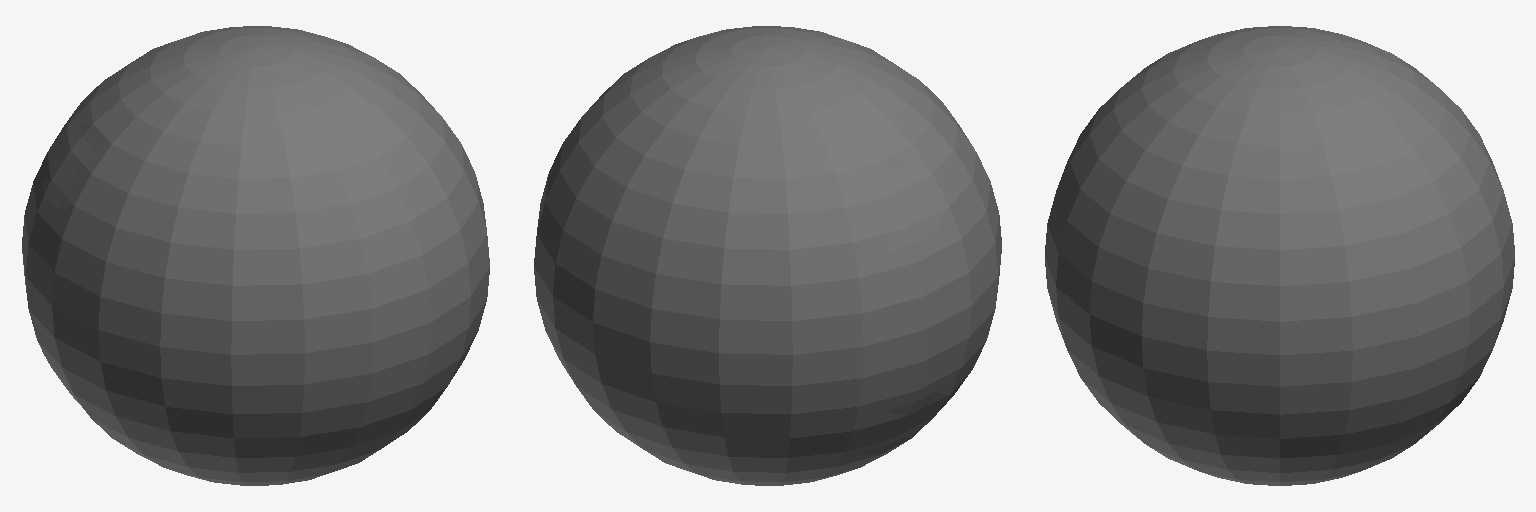
The model's file is Mars.obj.
The picture shows the model from 3 angles: view 1: azimuth 30°, elevation 25°; view 2: azimuth 150°, elevation 25°; view 3: azimuth 270°, elevation 25°; orthographic projection.
Visible parts, largest first — view 1: Mars; view 2: Mars; view 3: Mars.
Boxes of the visible parts, box(x1,y1,x2,y2) form: Mars: box(22, 26, 489, 485); Mars: box(534, 26, 1001, 485); Mars: box(1045, 26, 1514, 485).
Size of the model in its own units: 108 by 105 by 108.